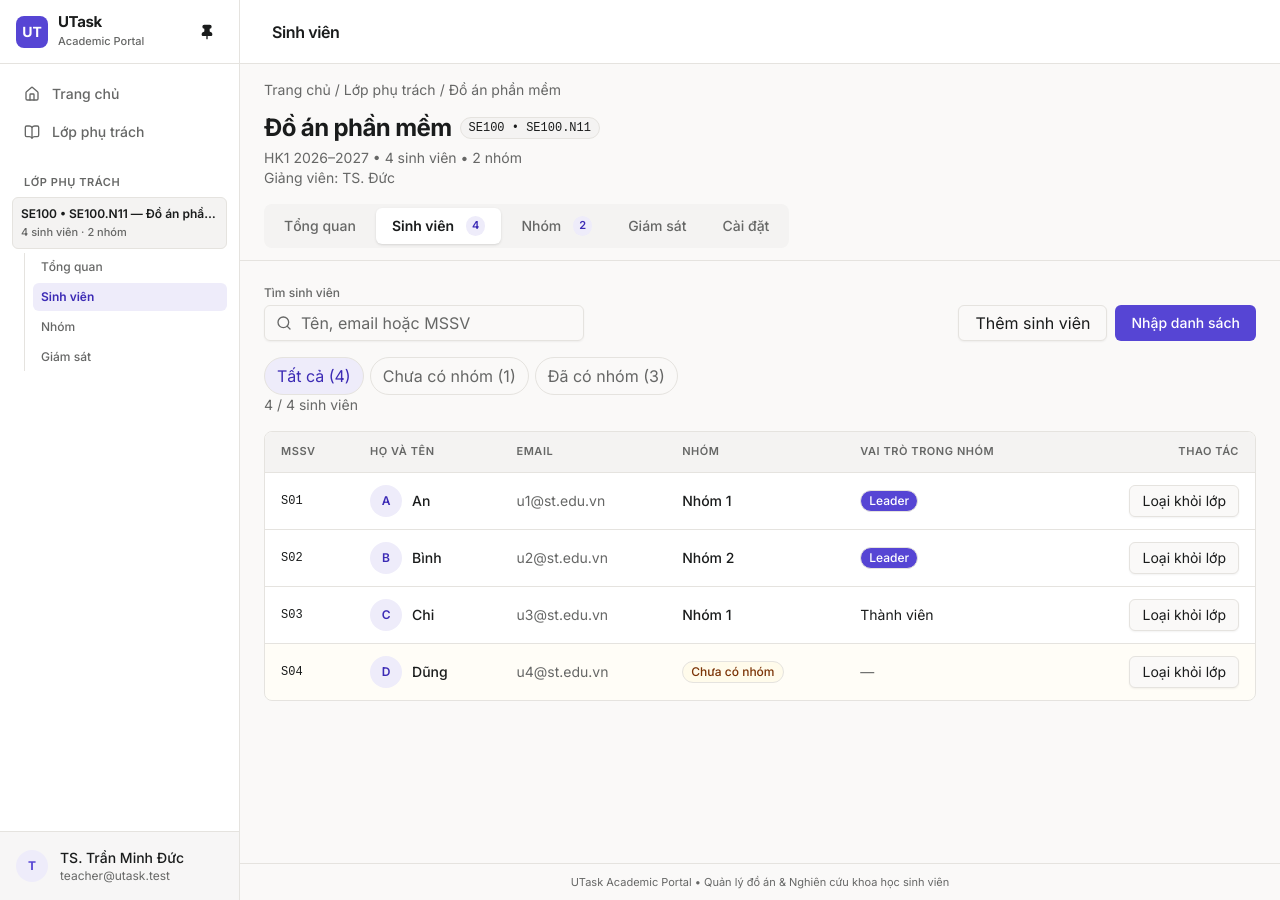
Scenario: adding one student › sends one numbered row and reports the per-row outcome
Click the button "Thêm sinh viên" at (1033, 323), box [958, 305, 1108, 341]
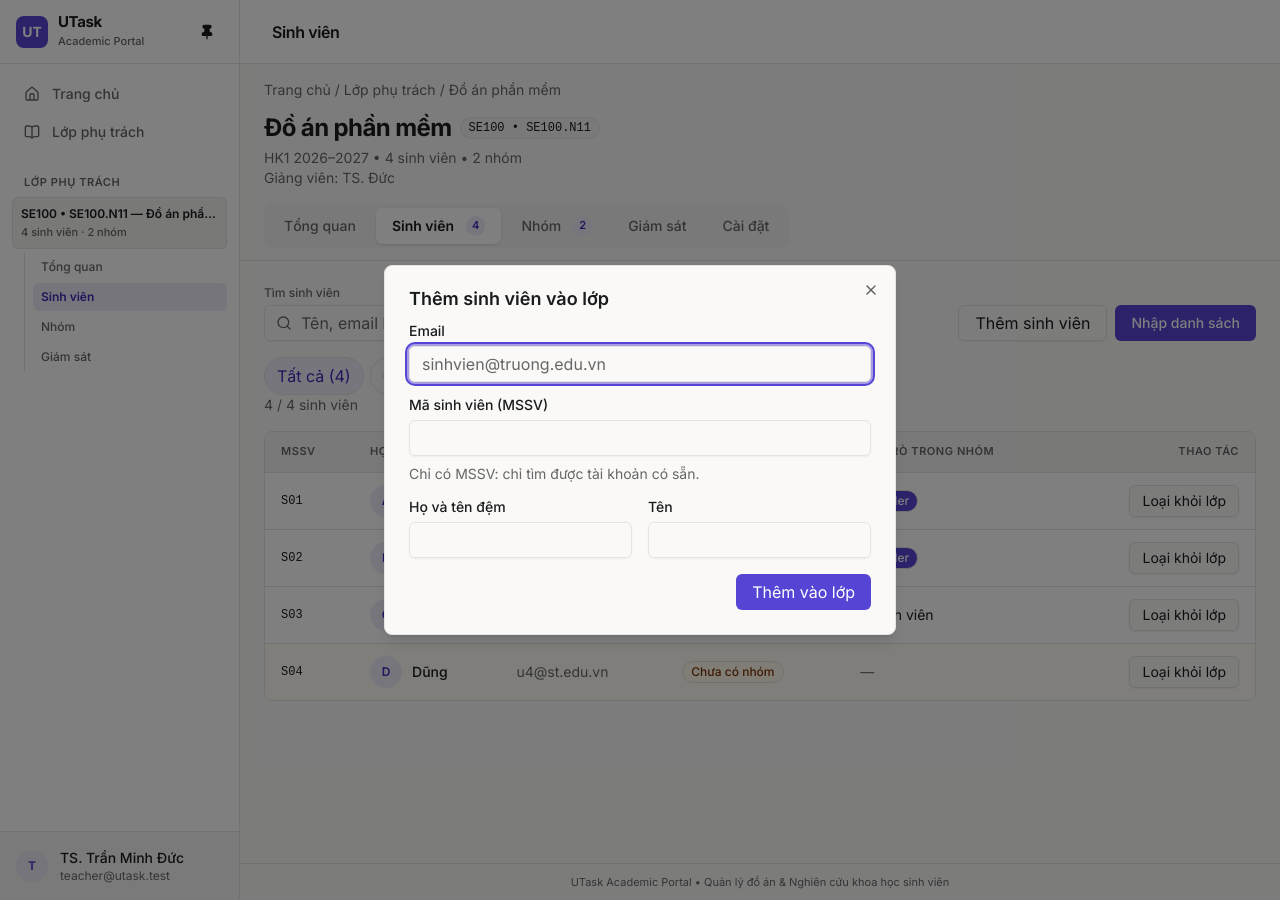
Type "moi@st.edu.vn" into the field labelled "Email" at (640, 364), box [409, 346, 871, 382]
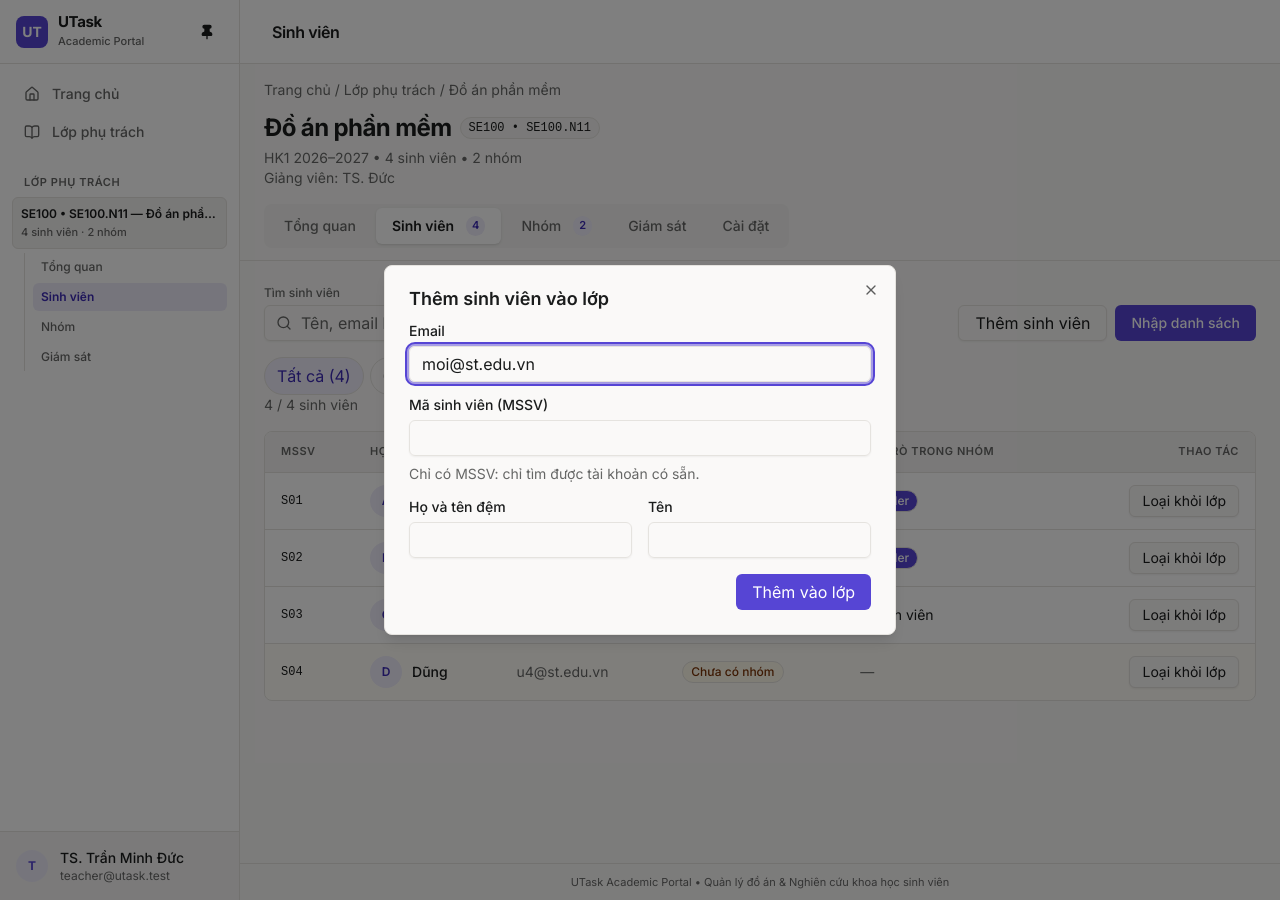
Click the button "Thêm vào lớp" at (804, 592), box [736, 574, 871, 610]
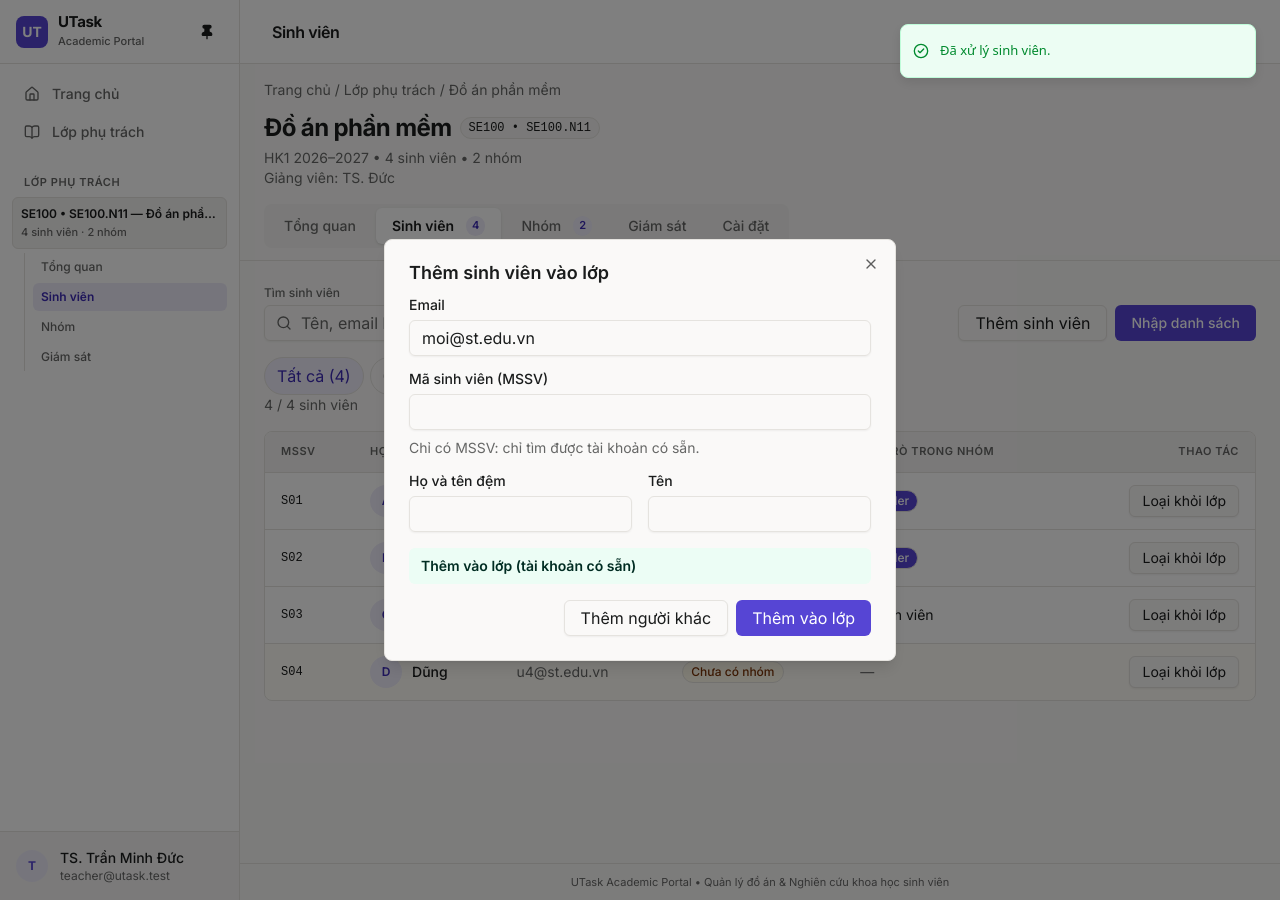
Expected: the text "Thêm vào lớp (tài khoản có sẵn)" is shown, [421, 557, 636, 574]
